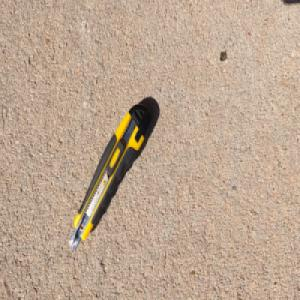Cutter: (69, 100, 154, 252)
